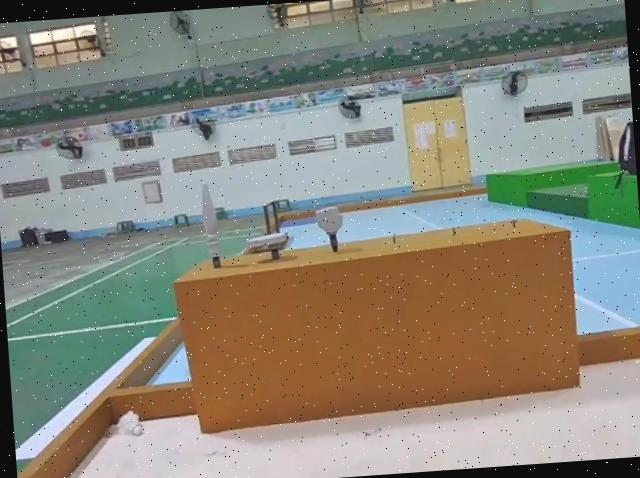Fist: (314, 204, 348, 254)
Hand: (249, 230, 292, 264)
Sph: (194, 178, 221, 269)
